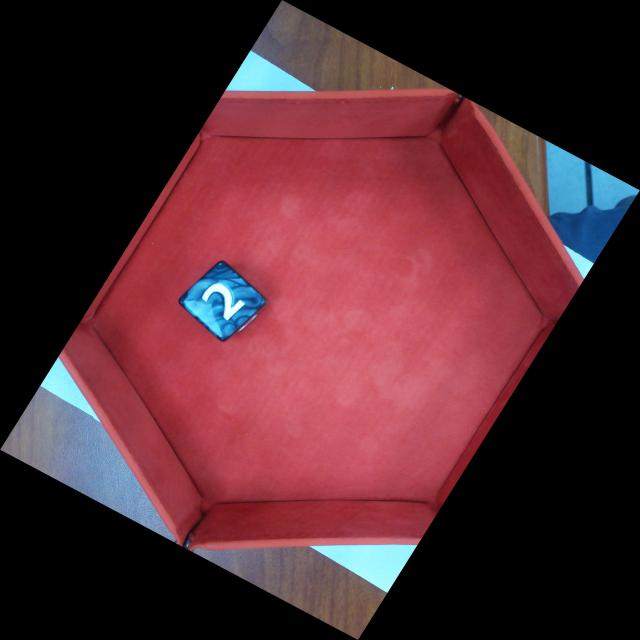dice: (184, 263, 269, 341)
